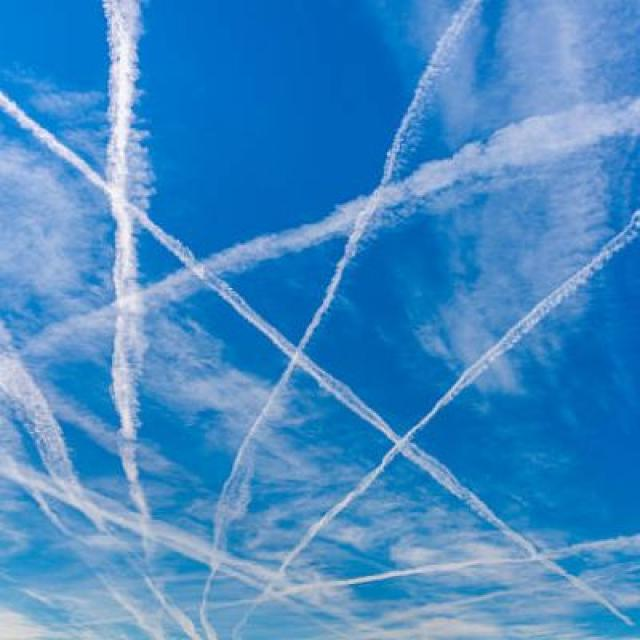Ct: (1, 32, 635, 612)
